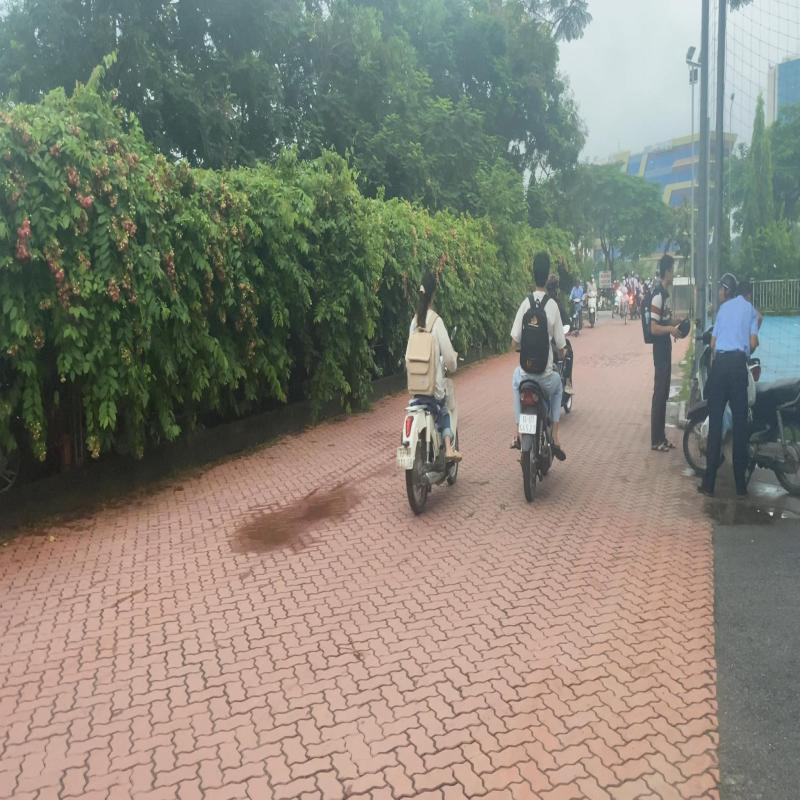licenseplate: (518, 412, 537, 435), (396, 447, 413, 470)
motorcyclist: (395, 271, 466, 514), (510, 251, 570, 505)
nohelmet: (419, 274, 436, 308), (534, 254, 550, 290)
